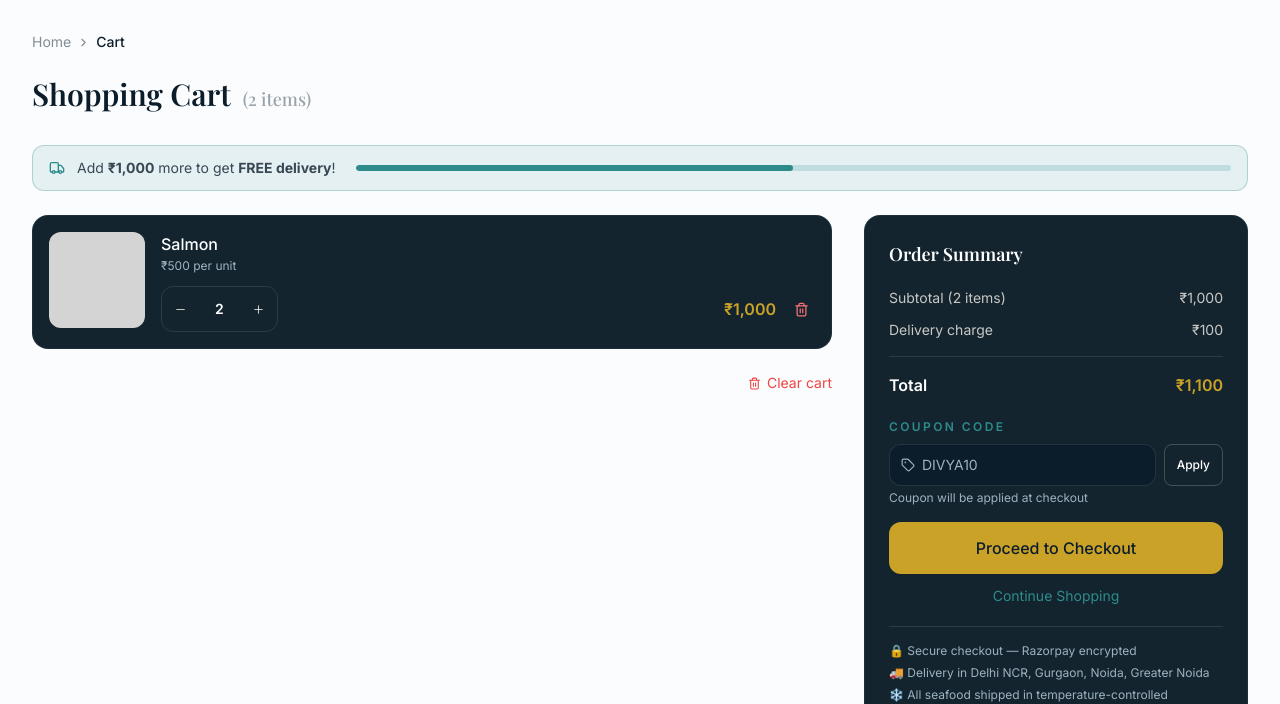
it: CartPage › requires a coupon code before navigating to checkout
Click the button "Apply" at (1193, 465), box [1164,444,1223,486]
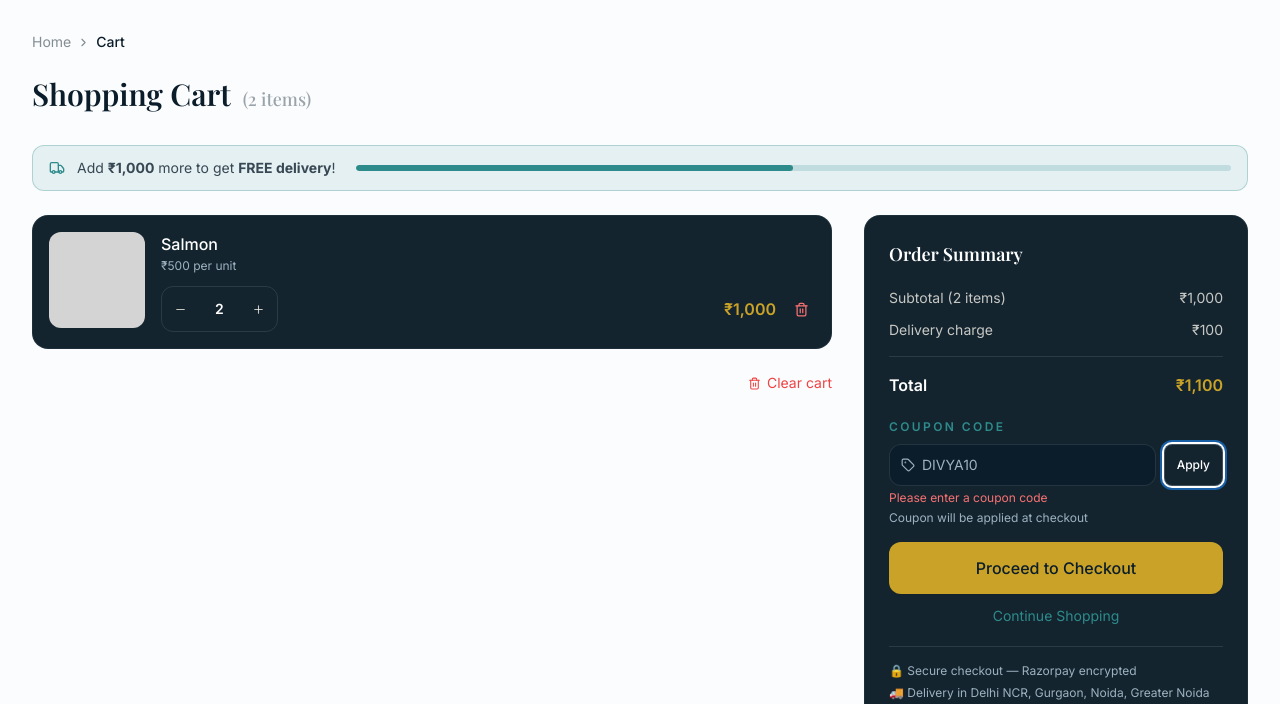
Expected: the text "Please enter a coupon code" is shown, [889,490,1048,505]
